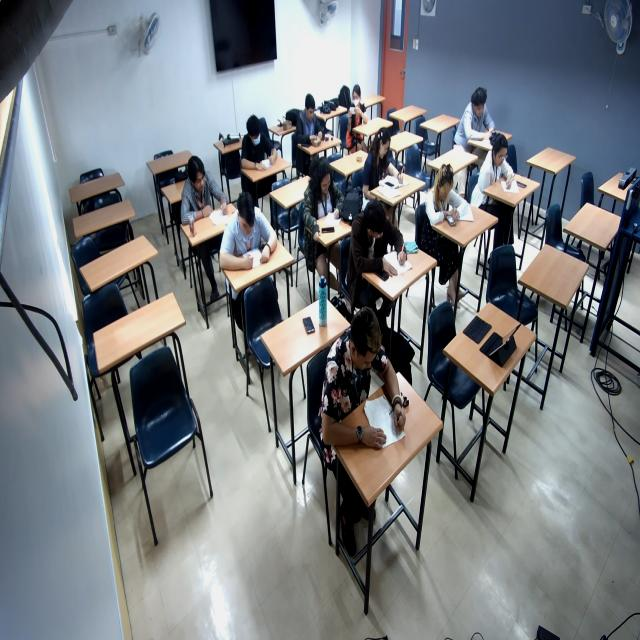read: (326, 315, 410, 462), (218, 188, 281, 278), (351, 208, 413, 283), (299, 163, 352, 239), (178, 159, 229, 230), (359, 135, 408, 204), (235, 109, 283, 175), (367, 131, 413, 194), (479, 138, 525, 200), (431, 166, 470, 237), (461, 85, 499, 146)
